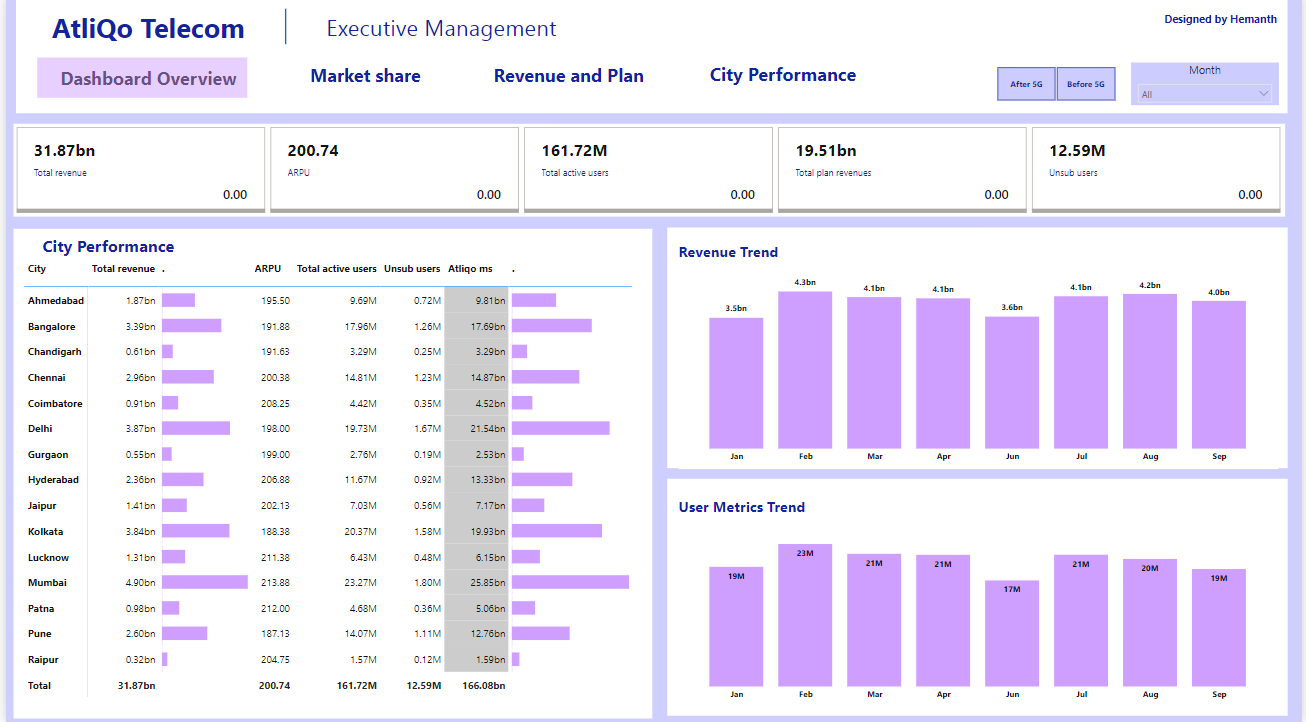

Layout of this report page (visuals, bound fields, positions):
{"tool":"powerbi","page":{"name":"Dashboard Overview","canvas":[1920,1080],"ordinal":0},"visuals":[{"type":"shape","box":[979,716.6,919.3,351.1],"z":0},{"type":"shape","box":[979,345.3,919.3,356.5],"z":1000},{"type":"shape","box":[10.9,345.6,946.5,725.7],"z":2000},{"type":"shape","box":[14.5,0,1883.9,175.5],"z":3000},{"type":"shape","box":[47.1,19.9,329.4,52.5],"z":4000},{"type":"shape","box":[437.9,19.9,416.2,52.5],"z":5000},{"type":"shape","box":[390.9,19.9,47.1,52.5],"z":6000},{"type":"shape","box":[47.1,99.5,329.4,45.2],"z":7000},{"type":"shape","box":[376.4,90.5,313.1,54.3],"z":8000},{"type":"shape","box":[689.5,90.5,289.5,54.3],"z":9000},{"type":"shape","box":[997.1,88.7,309.5,54.3],"z":10000},{"type":"pivotTable","fields":{"Rows":["dim_cities.city_name"],"Values":["All Measures.Total revenue","All Measures.Total revenue bars","All Measures.ARPU","All Measures.Total active users","All Measures.Unsub users","All Measures.Atliqo ms","All Measures.Atliqo ms bars"]},"box":[21.7,380,912.1,684.1],"z":11000},{"type":"shape","box":[21.7,352.9,258.8,34.4],"z":12000},{"type":"columnChart","fields":{"Category":["dim_date.month_name"],"Y":["All Measures.Total revenue"]},"box":[997.1,399.6,888.5,302.2],"z":13000},{"type":"columnChart","fields":{"Category":["dim_date.month_name"],"Y":["All Measures.Total active users"]},"box":[997.1,776.3,888.5,278.7],"z":14000},{"type":"shape","box":[997.1,736.5,222.6,39.8],"z":15000},{"type":"shape","box":[997.1,359.8,219,39.8],"z":16000},{"type":"shape","box":[414.4,190,399.9,59.7],"z":17000},{"type":"slicer","fields":{"Values":["dim_date.before/after_5g"]},"box":[1442.3,99.5,224.4,63.3],"z":18000},{"type":"shape","box":[1699.3,19.9,199.1,29],"z":19000},{"type":"cardVisual","fields":{"Data":["All Measures.Total revenue","All Measures.ARPU","All Measures.Total active users","All Measures.Total plan revenues","All Measures.Unsub users"]},"box":[10.9,190,1883.9,137.5],"z":20000},{"type":"slicer","title":"Month","fields":{"Values":["dim_date.month_name"]},"box":[1666.7,99.5,219,63.3],"z":21000},{"type":"shape","box":[47.1,92.3,311.3,59.7],"z":22000}]}

Visuals, with their boxes in screenshot pixels (x1, y1, x2, y2), scaled from the page's 1920x1080 canvas onto the 1306x722 screenshot:
shape: [666, 479, 1291, 714]
shape: [666, 231, 1291, 469]
shape: [7, 231, 651, 716]
shape: [10, 0, 1291, 117]
shape: [32, 13, 256, 48]
shape: [298, 13, 581, 48]
shape: [266, 13, 298, 48]
shape: [32, 67, 256, 97]
shape: [256, 61, 469, 97]
shape: [469, 61, 666, 97]
shape: [678, 59, 889, 96]
pivotTable - dim_cities.city_name x All Measures.Total revenue: [15, 254, 635, 711]
shape: [15, 236, 191, 259]
columnChart - dim_date.month_name x All Measures.Total revenue: [678, 267, 1283, 469]
columnChart - dim_date.month_name x All Measures.Total active users: [678, 519, 1283, 705]
shape: [678, 492, 830, 519]
shape: [678, 241, 827, 267]
shape: [282, 127, 554, 167]
slicer - dim_date.before/after_5g: [981, 67, 1134, 109]
shape: [1156, 13, 1291, 33]
cardVisual - All Measures.Total revenue x All Measures.ARPU: [7, 127, 1289, 219]
"Month" slicer: [1134, 67, 1283, 109]
shape: [32, 62, 244, 102]
